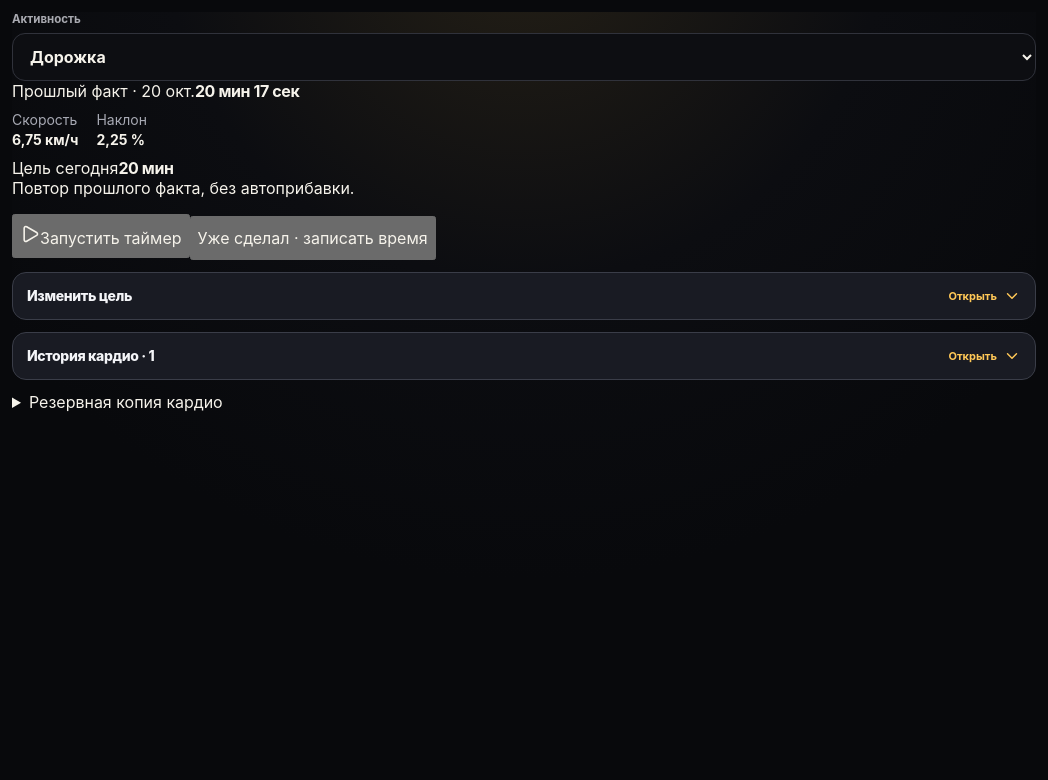
Test case: visible treadmill facts › restores numeric pending facts without relying on a device sidecar
The image size is (1048, 780).
Click the button "История кардио · 1 Открыть".
click(91, 356)  # box x1=12 y1=332 x2=1036 y2=380
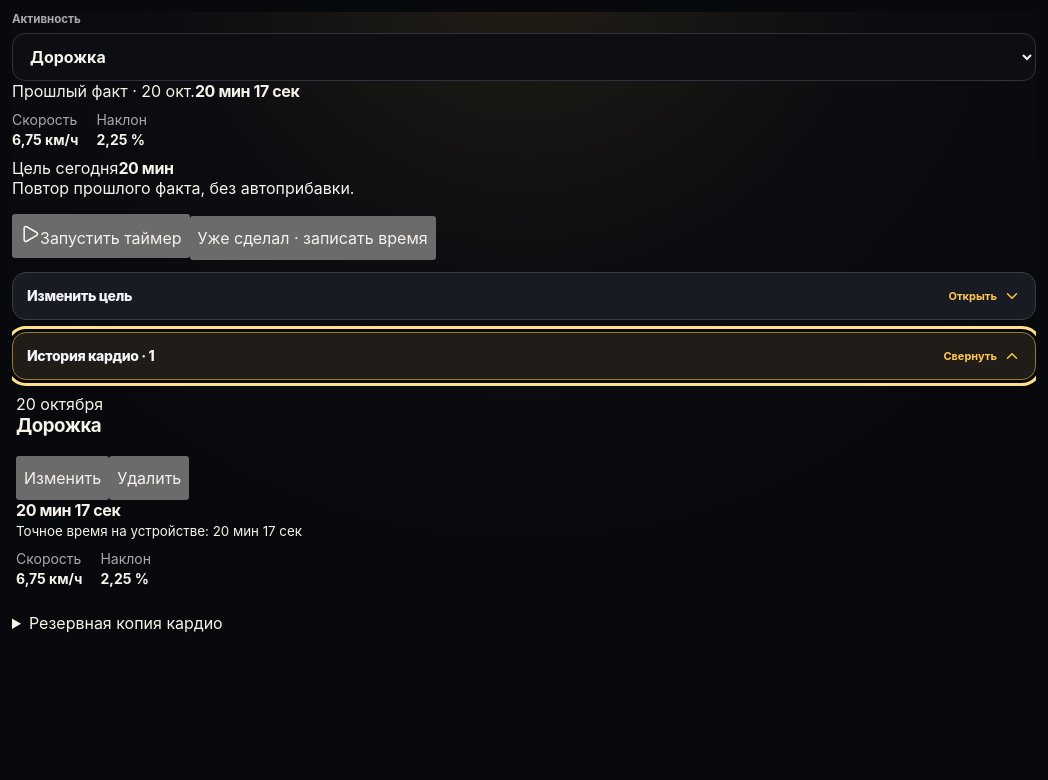
Expected: the text "6,75 км/ч" is shown 2 times, x1=12 y1=131 x2=78 y2=148; x1=16 y1=570 x2=82 y2=587
Click the button with aria-label "Редактировать кардио".
click(63, 478)  # box x1=16 y1=456 x2=109 y2=500
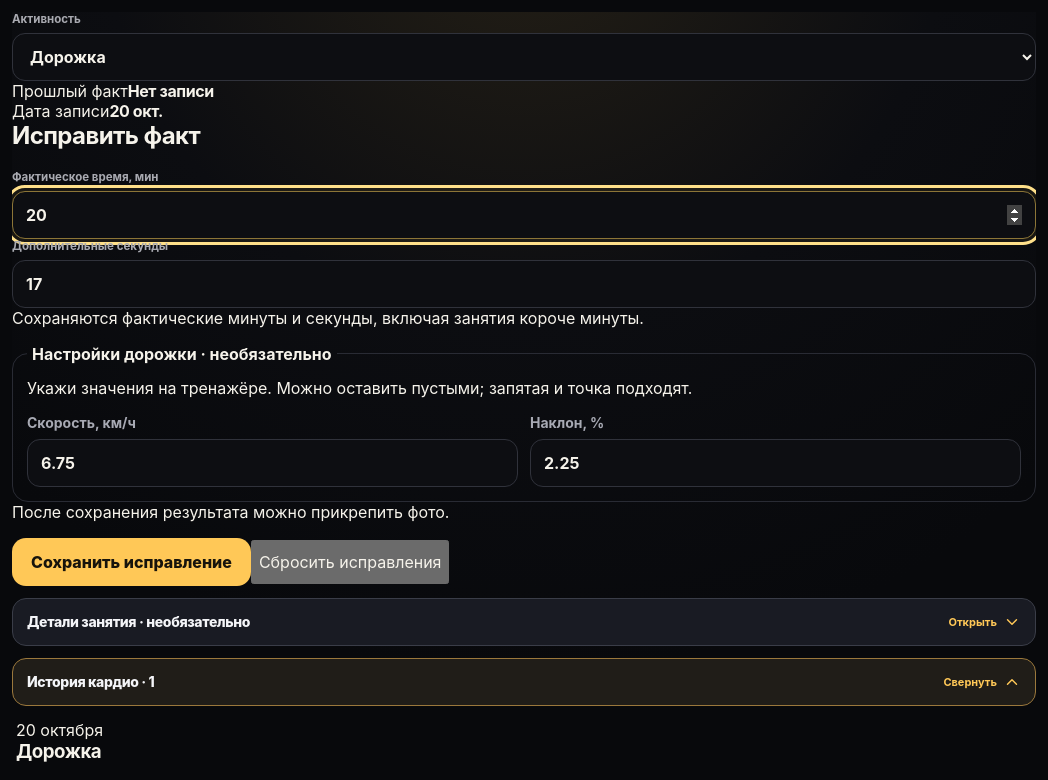
Expected: the field labelled "Скорость, км/ч" holds "6.75", x1=27 y1=439 x2=518 y2=487
Expected: the field labelled "Наклон, %" holds "2.25", x1=530 y1=439 x2=1021 y2=487
